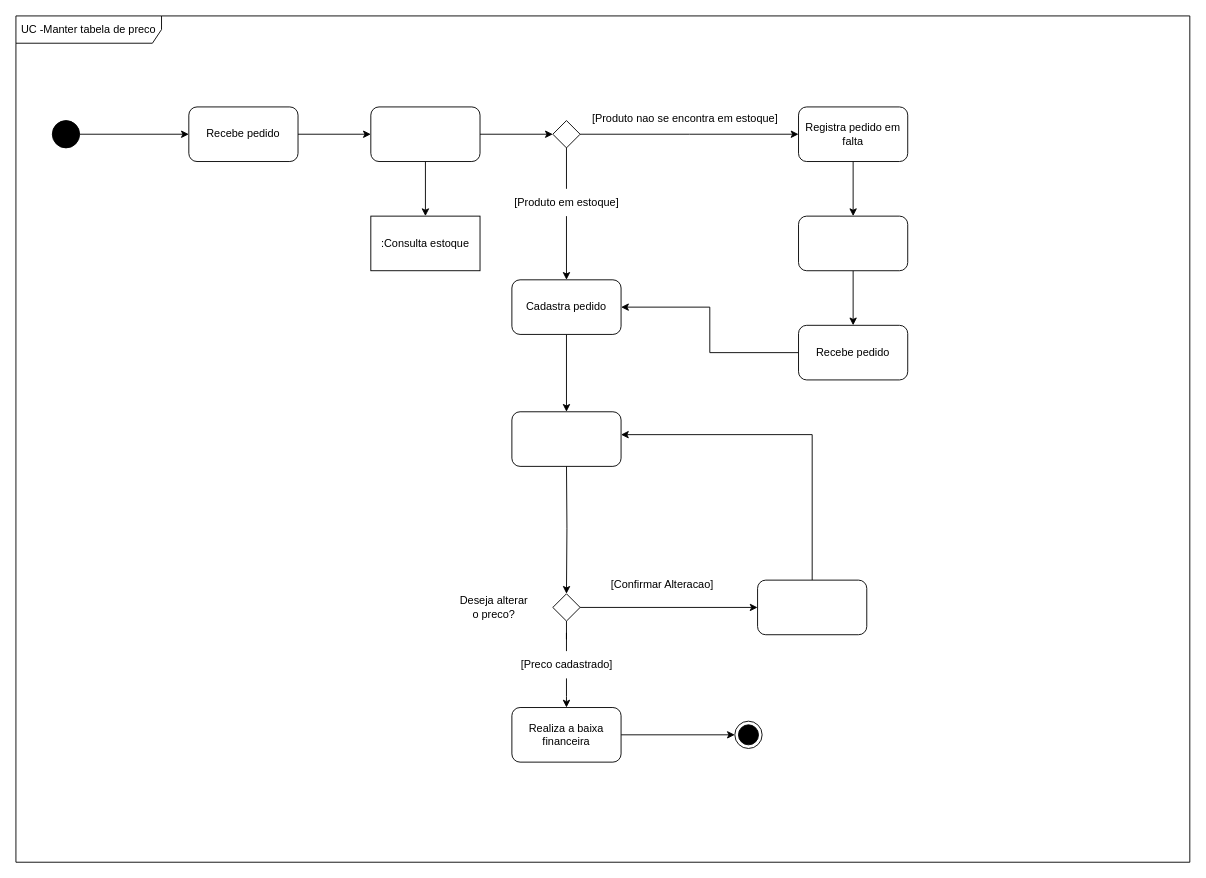
Image size: 1206x878. Some labels were removed from this diagram. The shapes that lost their labels are listed below. From the top down, each one's box as (x1, y1, x2, y2) in pixels, then its label:
(370, 106, 480, 162): Verificar produto
(798, 215, 908, 271): Envia pedido ao fornecedor
(511, 411, 621, 466): cadastra preço
(757, 579, 867, 635): Altera preco
